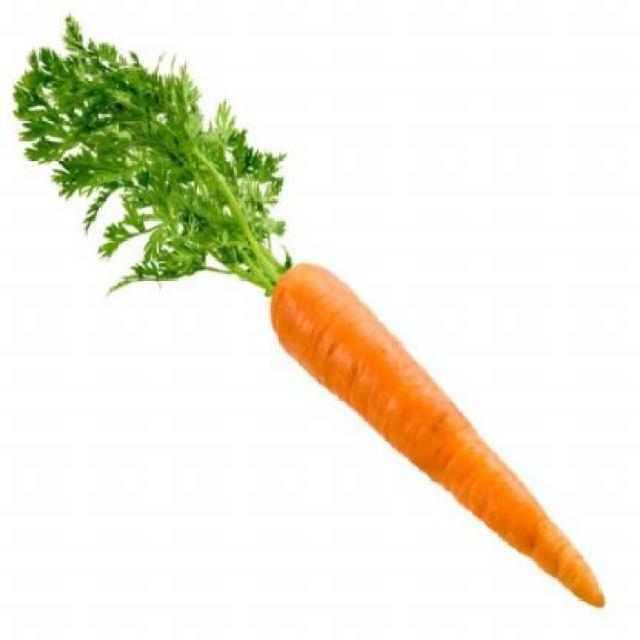carrot: (15, 18, 602, 606)
